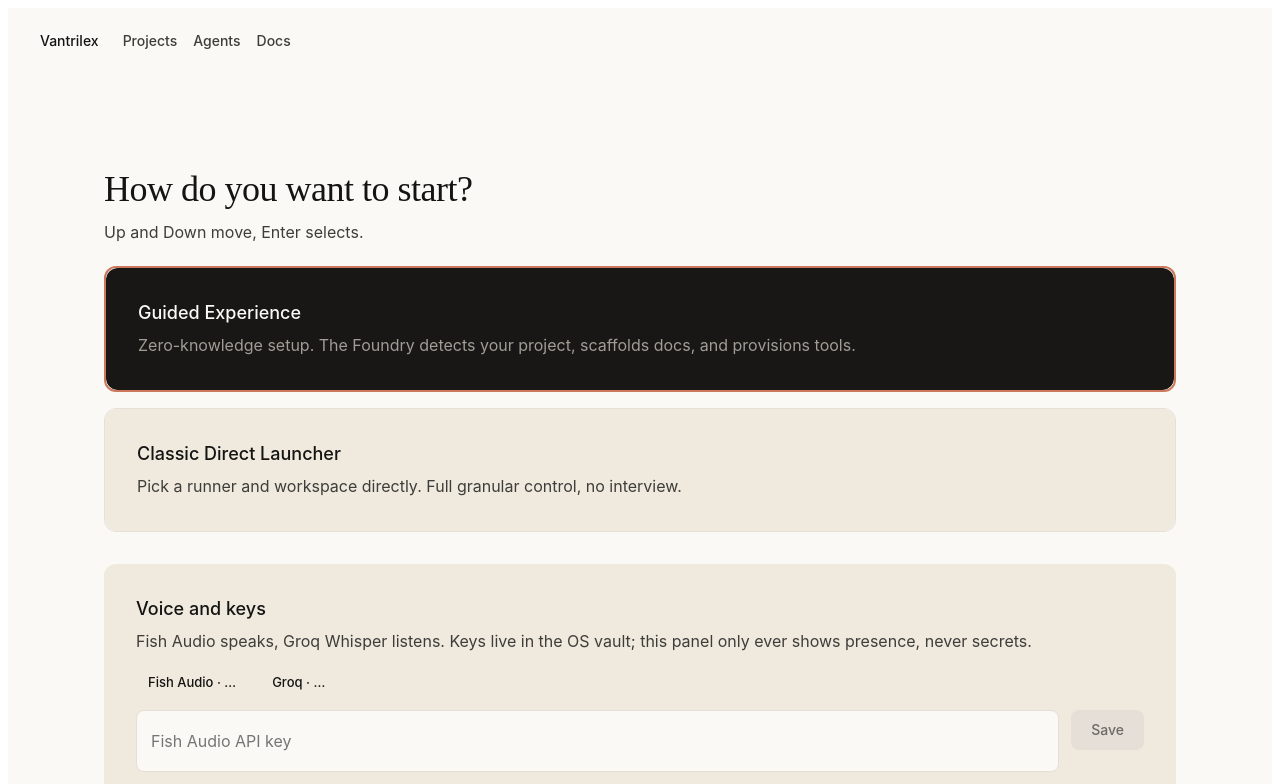
Scenario: guided wizard flow through IPC › classic mode skips the detect card requirement
This screenshot has width=1280, height=784.
Click the button with test id "mode-classic" at (640, 470), box [104,408,1176,532]
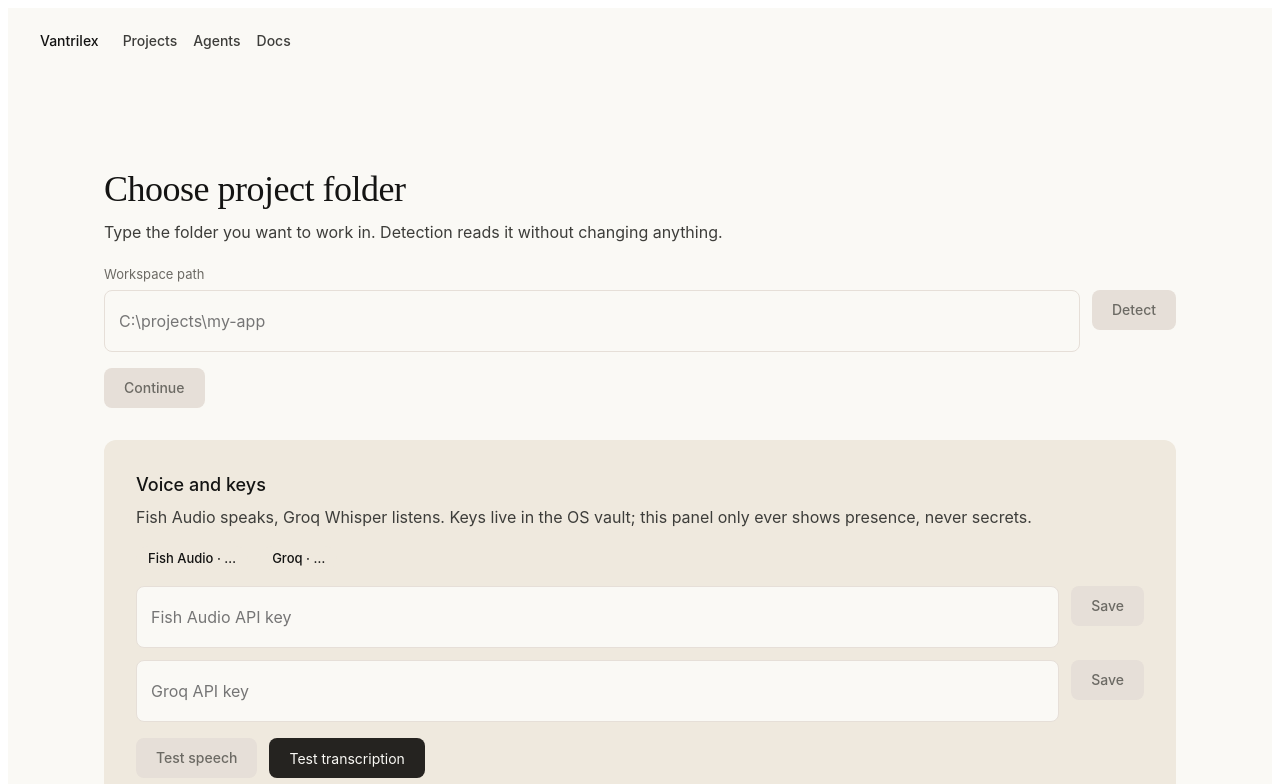
Type "C:/proj" into the field with test id "workspace-input" at (592, 321), box [104,290,1080,352]
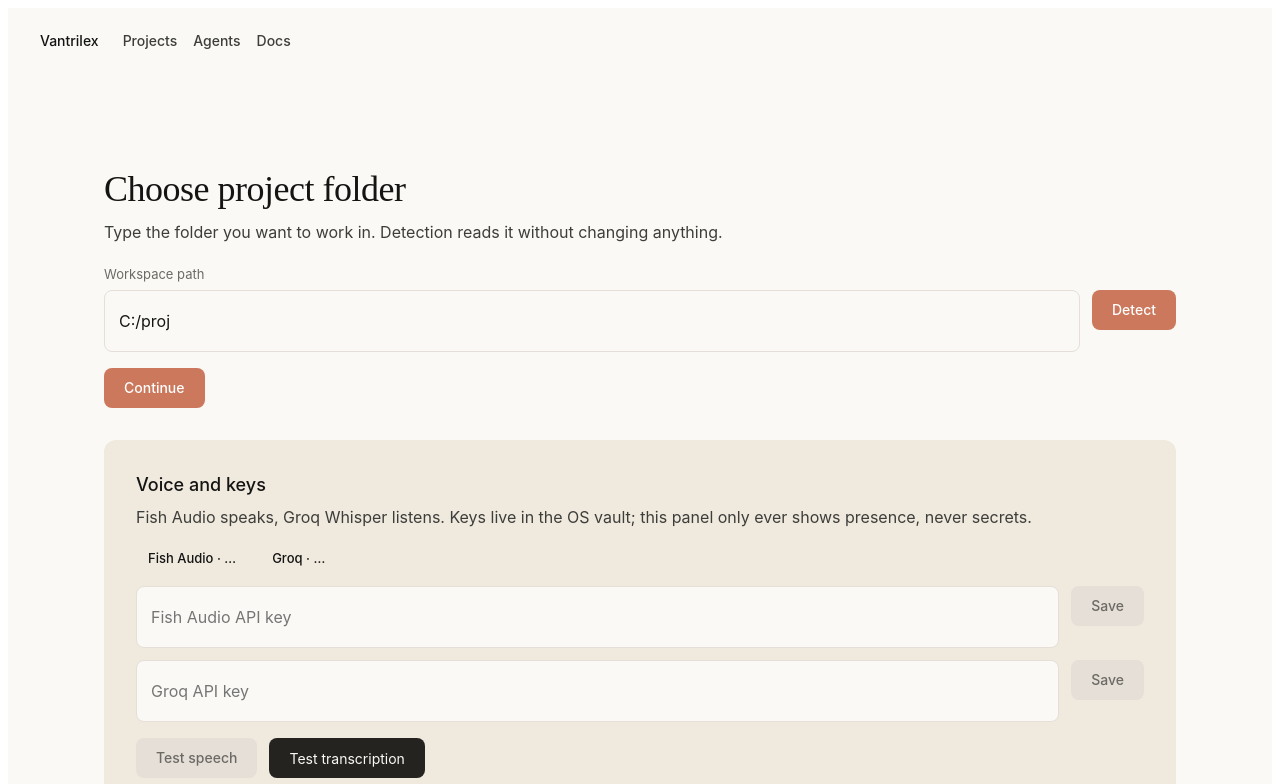
Click the button with test id "workspace-detect" at (1134, 310), box [1092,290,1176,330]
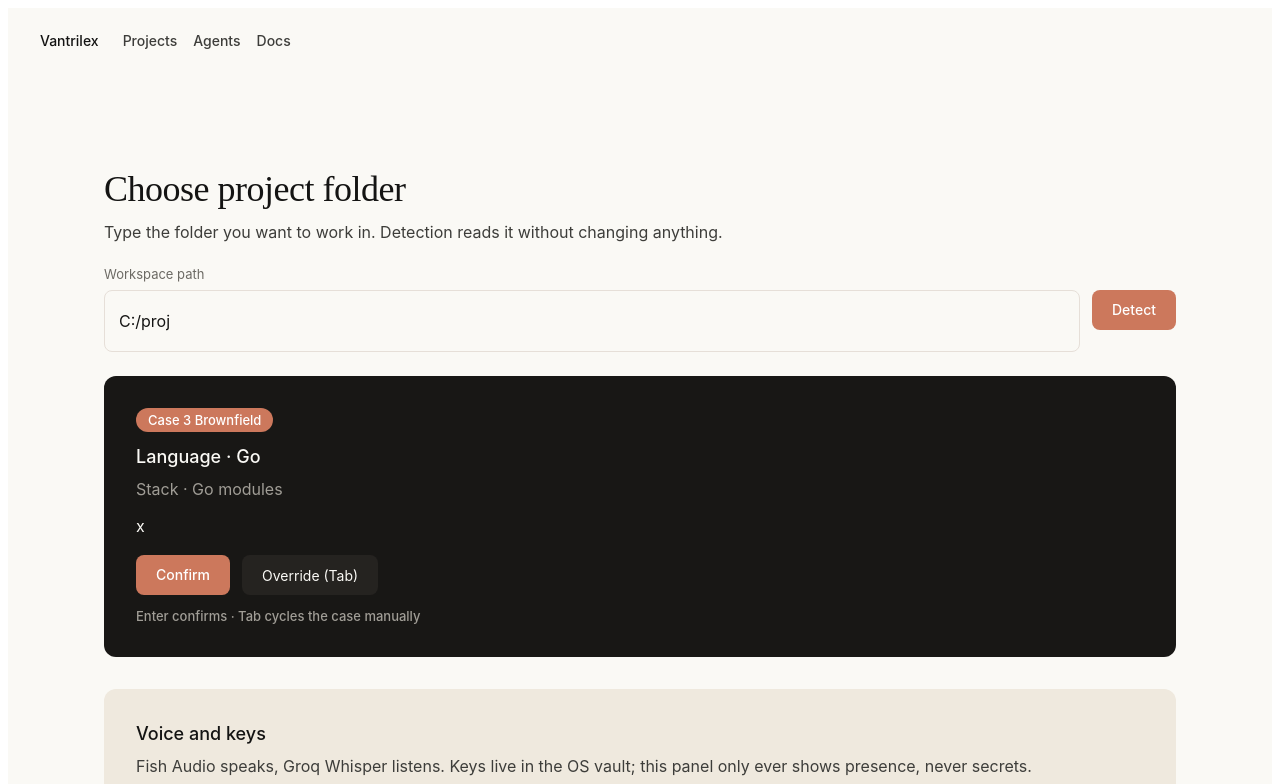
Expected: the element with test id "case-card" is shown, [104,376,1176,657]
